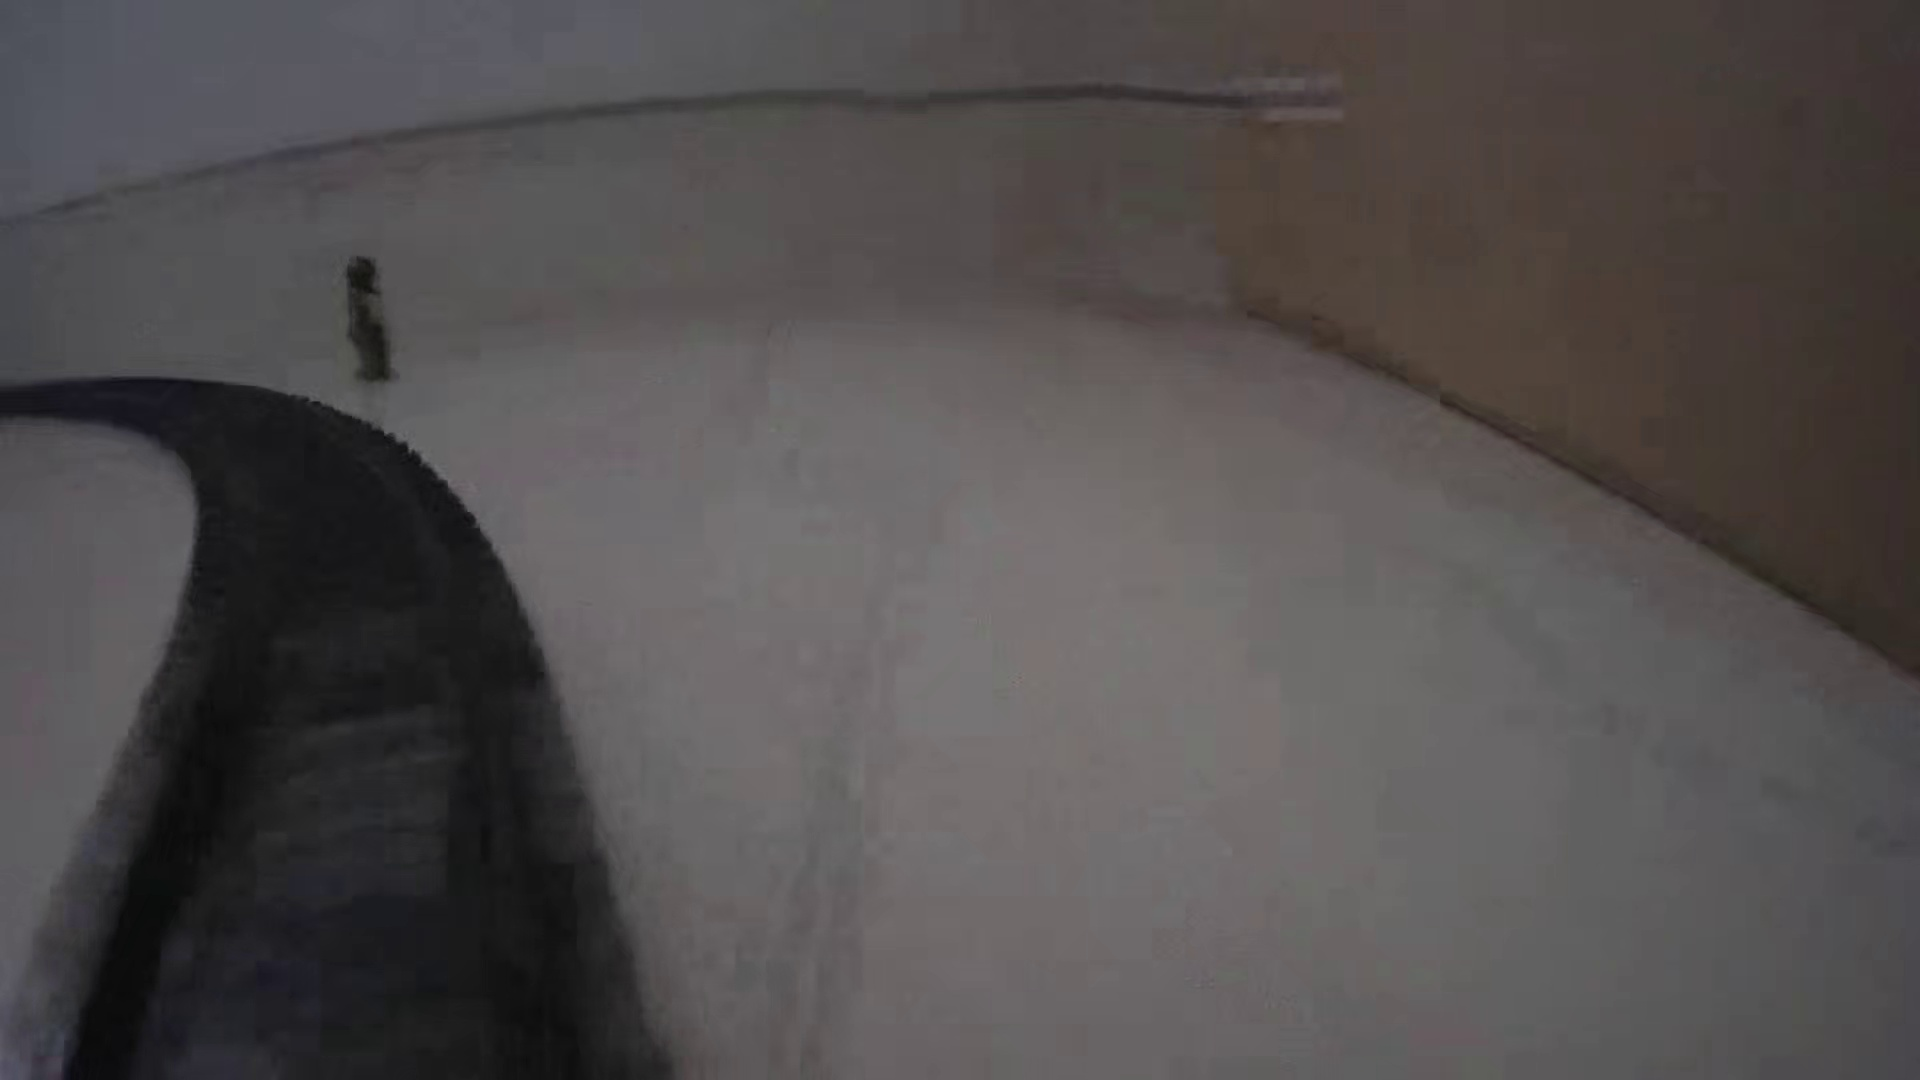people: (340, 251, 395, 383)
